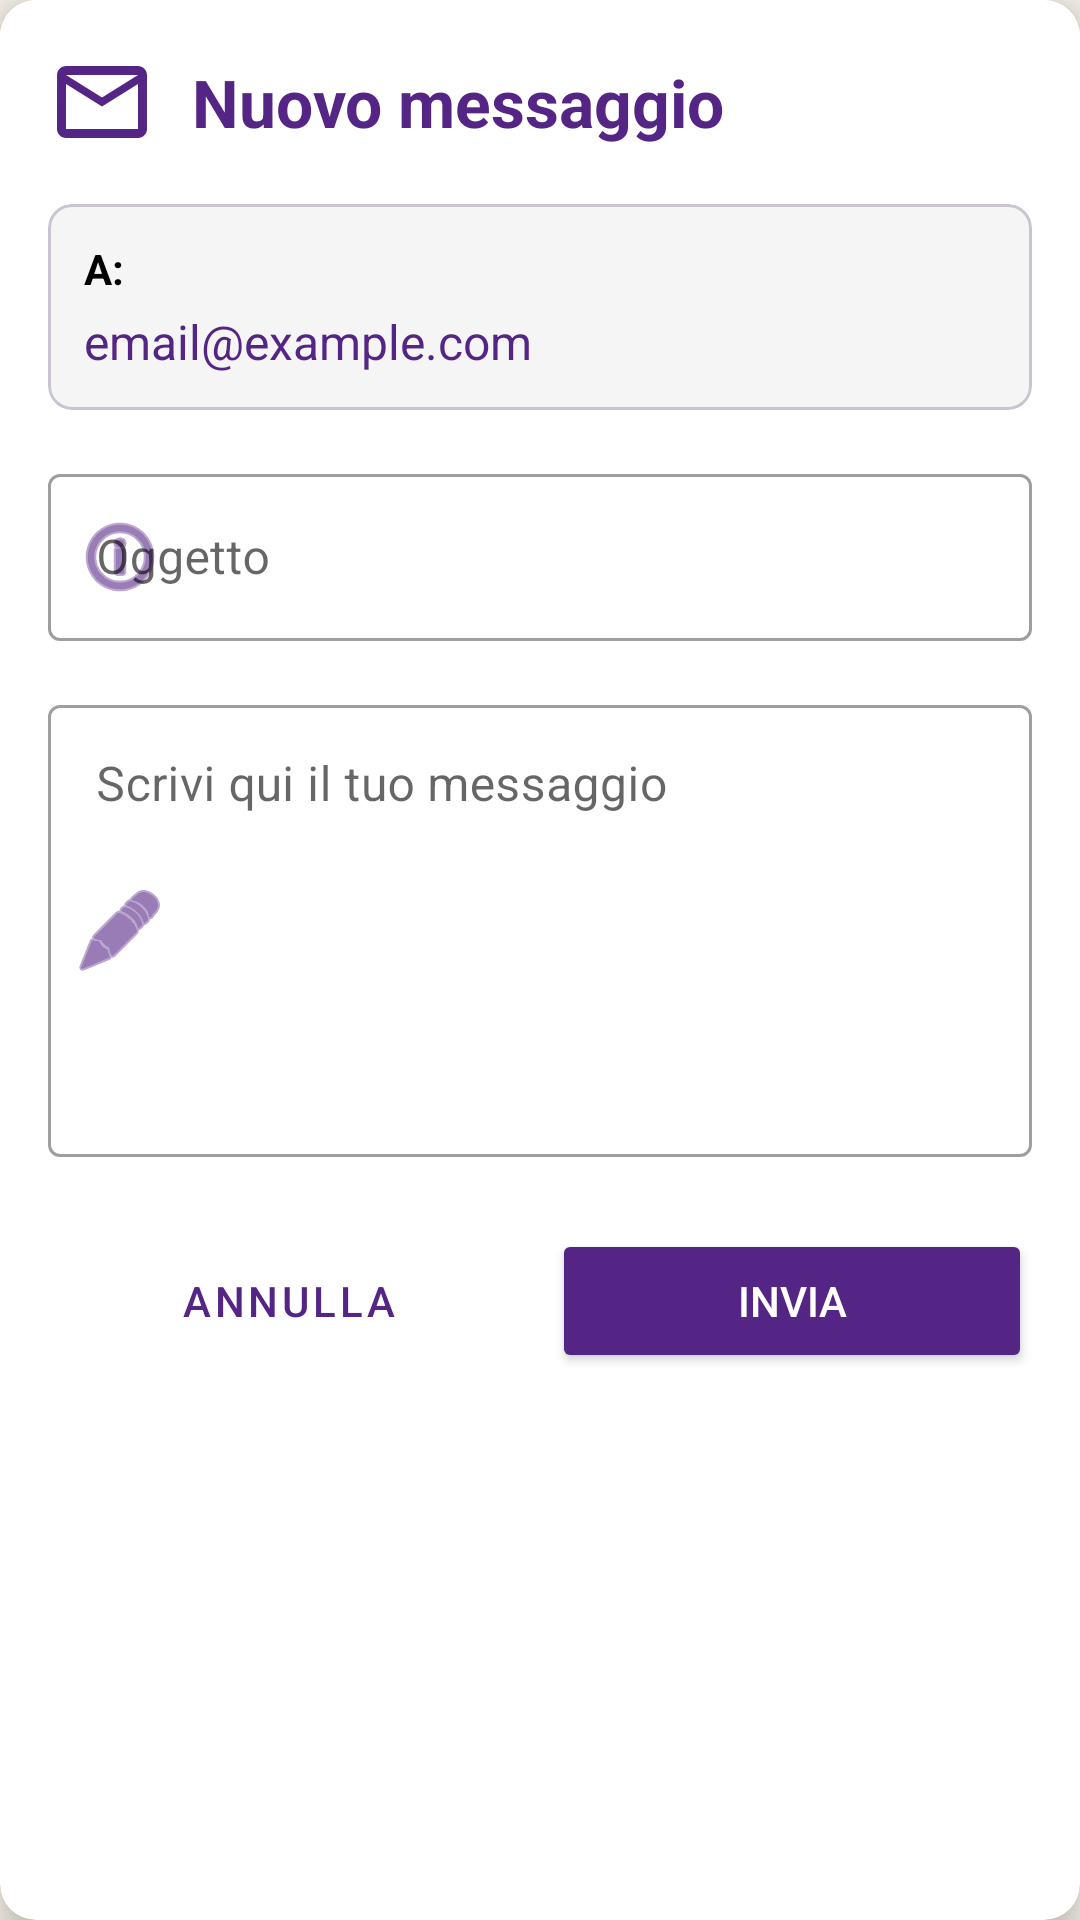

Icons on this 1080 x 1920 Android screen, each with its box as detection(x1, y1, x2, y2):
email: detection(57, 66, 147, 138)
